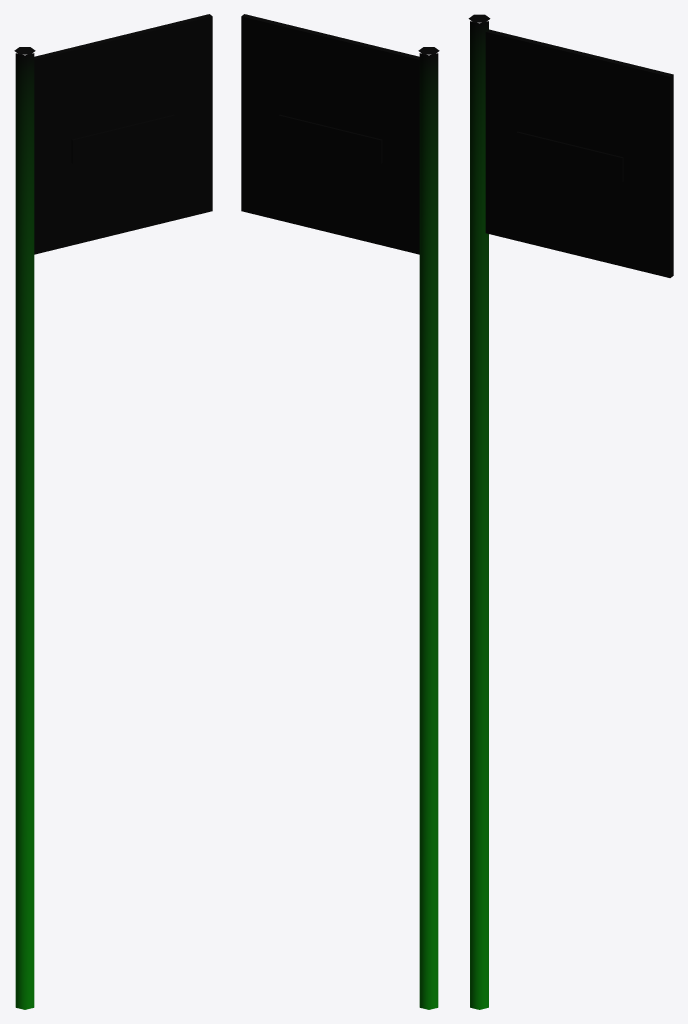
The model's file is s_flag.glb.
3 views of the same model, side by side, from view 1: azimuth 30°, elevation 25°; view 2: azimuth 150°, elevation 25°; view 3: azimuth 330°, elevation 25° (orthographic). The views are drawn at different scales.
Parts seen in each view (by area): view 1: lod0; view 2: lod0; view 3: lod0.
Part boxes in pixels (left/top/right/bottom): lod0: left=14, top=14, right=212, bottom=1009; lod0: left=241, top=14, right=439, bottom=1009; lod0: left=468, top=14, right=673, bottom=1009.
Size of what is drawn, in the model's own units: 2.1 by 9.8 by 0.22.
